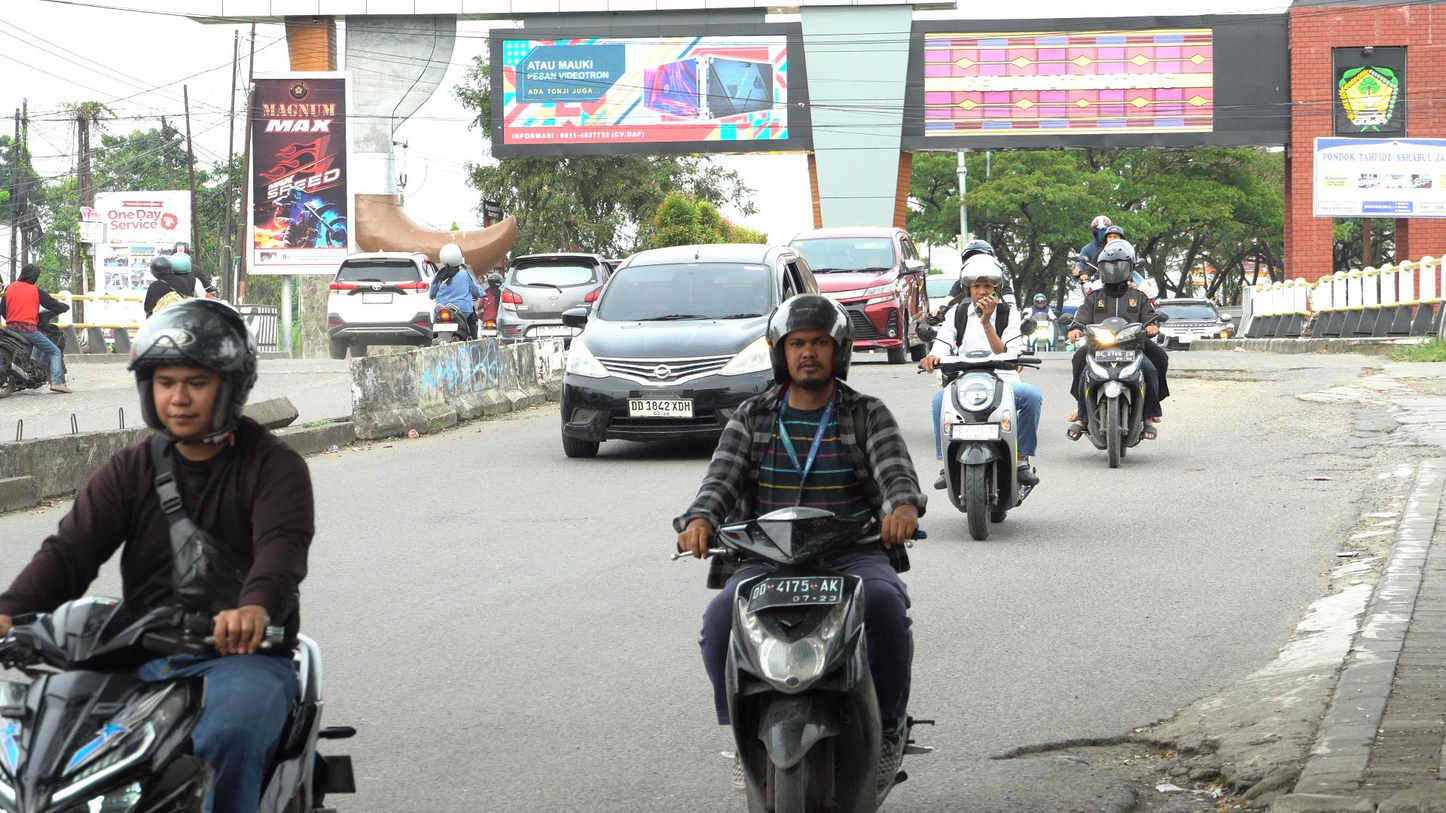number-plate: (744, 574, 845, 606), (1094, 348, 1140, 364)
